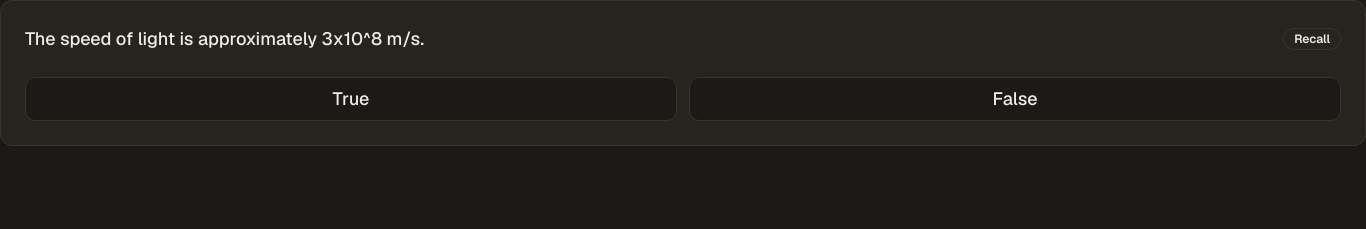
QuizCard › shows feedback for true-false after selecting
Click the button "True": (351, 99) 25,77 -> 677,121
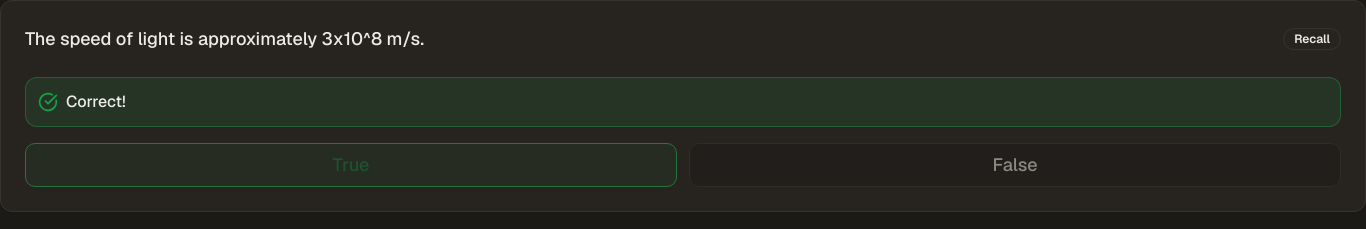
Check: the text "Correct!" is shown, box 66,90 -> 126,114
